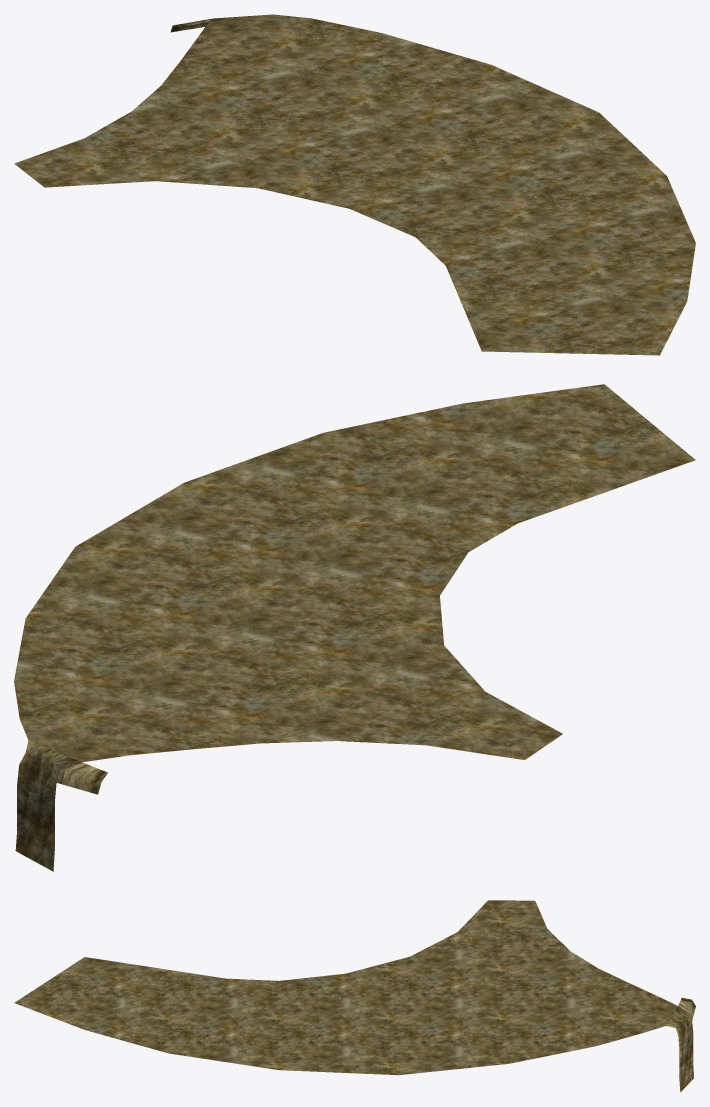
The model's file is RM_PLAYSURFACE_FINAL_MESH07.fbx.
3 views of the same model, one above another, from view 1: azimuth 30°, elevation 25°; view 2: azimuth 150°, elevation 25°; view 3: azimuth 270°, elevation 25° (orthographic). The views are drawn at different scales.
Visible parts, largest first — view 1: RM_PLAYSURFACE_FINAL_MESH07; view 2: RM_PLAYSURFACE_FINAL_MESH07; view 3: RM_PLAYSURFACE_FINAL_MESH07.
Part boxes in pixels (x1,y1,x2,y2): RM_PLAYSURFACE_FINAL_MESH07: (14, 14, 695, 355); RM_PLAYSURFACE_FINAL_MESH07: (14, 384, 695, 871); RM_PLAYSURFACE_FINAL_MESH07: (14, 900, 695, 1092).
Size of the model in its own units: 255346 by 46410 by 420447.
Materials: 3 (3 with a texture image).
